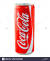coke: (16, 11, 32, 51)
